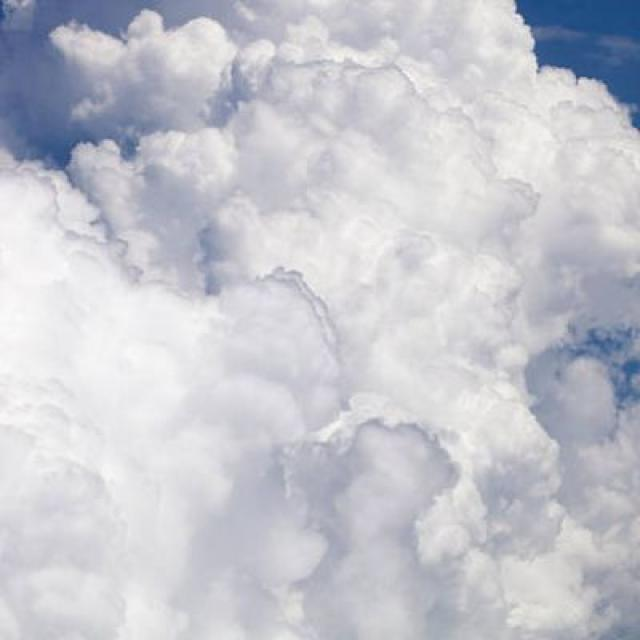As: (12, 26, 636, 640)
